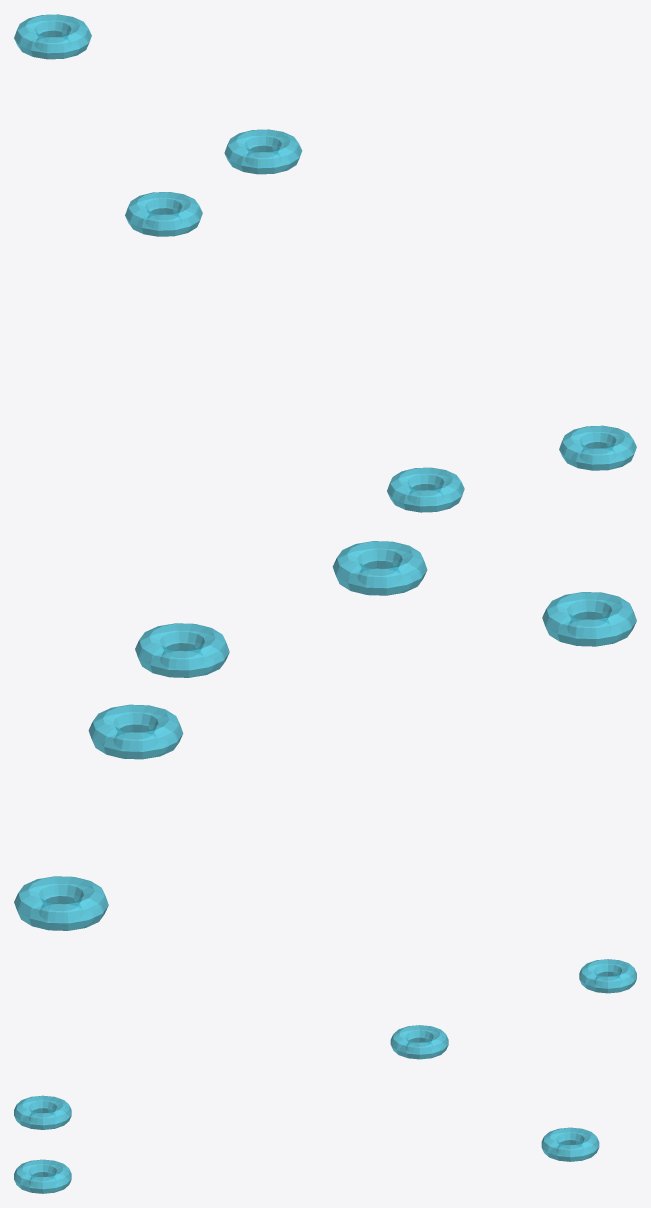
File: EL AirJump.fbx
3 renders of one model, top to bottom at view 1: azimuth 30°, elevation 25°; view 2: azimuth 150°, elevation 25°; view 3: azimuth 270°, elevation 25°, orthographic. The views are drawn at different scales.
Parts seen in each view (by area): view 1: Torus.011, ``.002, ``.003, ``, ``.001; view 2: ``, Torus.011, ``.002, ``.001, ``.003; view 3: ``.001, ``.002, ``.003, ``, Torus.011.
Boxes of the visible parts, x1,y1,x2,y2 form: Torus.011: (387, 467, 464, 512); ``.002: (224, 129, 302, 174); ``.003: (14, 14, 91, 59); ``: (559, 425, 636, 470); ``.001: (125, 192, 202, 236); ``: (332, 541, 427, 595); Torus.011: (542, 592, 636, 646); ``.002: (135, 623, 229, 677); ``.001: (14, 876, 108, 930); ``.003: (88, 704, 183, 759); ``.001: (541, 1127, 599, 1161); ``.002: (390, 1025, 448, 1059); ``.003: (579, 959, 636, 993); ``: (14, 1159, 71, 1193); Torus.011: (14, 1095, 71, 1129).
Size of the model in its own units: 557 by 449 by 1653.
